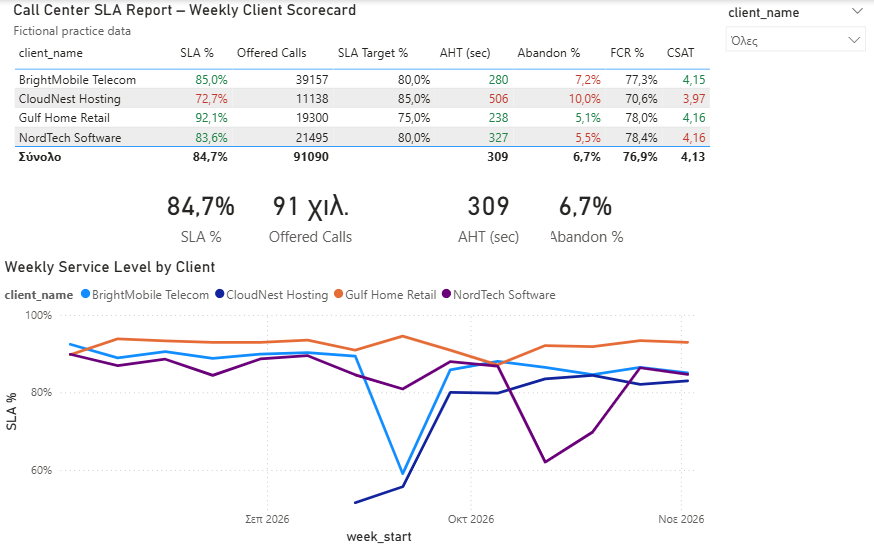

The page's visual inventory and layout, read from the dashboard file:
{"tool":"powerbi","page":{"name":"Client Scorecard","canvas":[1280,720],"ordinal":0},"visuals":[{"type":"tableEx","title":"Call Center SLA Report – Weekly Client Scorecard","fields":{"Values":["clients.client_name","calls.SLA %","calls.Offered Calls","calls.SLA Target %","calls.AHT (sec)","calls.Abandon %","calls.FCR %","calls.CSAT"]},"box":[9.5,0,781.3,193.6],"z":0},{"type":"lineChart","title":"Weekly Service Level by Client","fields":{"Category":["calls.week_start"],"Y":["calls.SLA %"],"Series":["clients.client_name"]},"box":[0,280.9,781.3,317.7],"z":1},{"type":"slicer","fields":{"Values":["clients.client_name"]},"box":[781.3,0,173.2,83.2],"z":2},{"type":"card","fields":{"Values":["calls.Offered Calls"]},"box":[278.1,185.4,121.3,95.4],"z":3},{"type":"card","fields":{"Values":["calls.SLA %"]},"box":[160.9,185.4,117.3,95.4],"z":4},{"type":"card","fields":{"Values":["calls.Abandon %"]},"box":[584.9,185.4,107.7,95.4],"z":5},{"type":"card","fields":{"Values":["calls.AHT (sec)"]},"box":[464.9,185.4,136.3,95.4],"z":6}]}

Visuals, with their boxes on the page's 1280x720 design canvas (x1, y1, x2, y2). These are canvas units, not pixel positions in the 874x552 screenshot, which may show the page scaled, cropped or inside an application window:
"Call Center SLA Report – Weekly Client Scorecard" tableEx: bbox=(10, 0, 791, 194)
"Weekly Service Level by Client" lineChart: bbox=(0, 281, 781, 599)
slicer - clients.client_name: bbox=(781, 0, 954, 83)
card - calls.Offered Calls: bbox=(278, 185, 399, 281)
card - calls.SLA %: bbox=(161, 185, 278, 281)
card - calls.Abandon %: bbox=(585, 185, 693, 281)
card - calls.AHT (sec): bbox=(465, 185, 601, 281)
